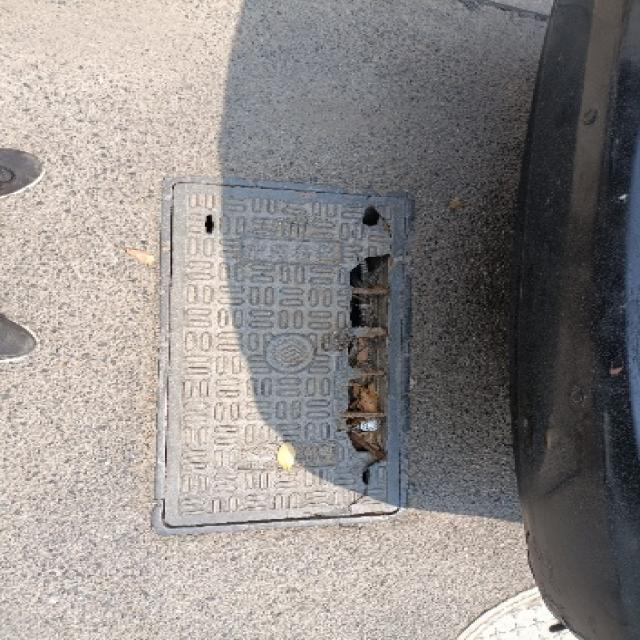Faulty: (135, 173, 431, 542)
